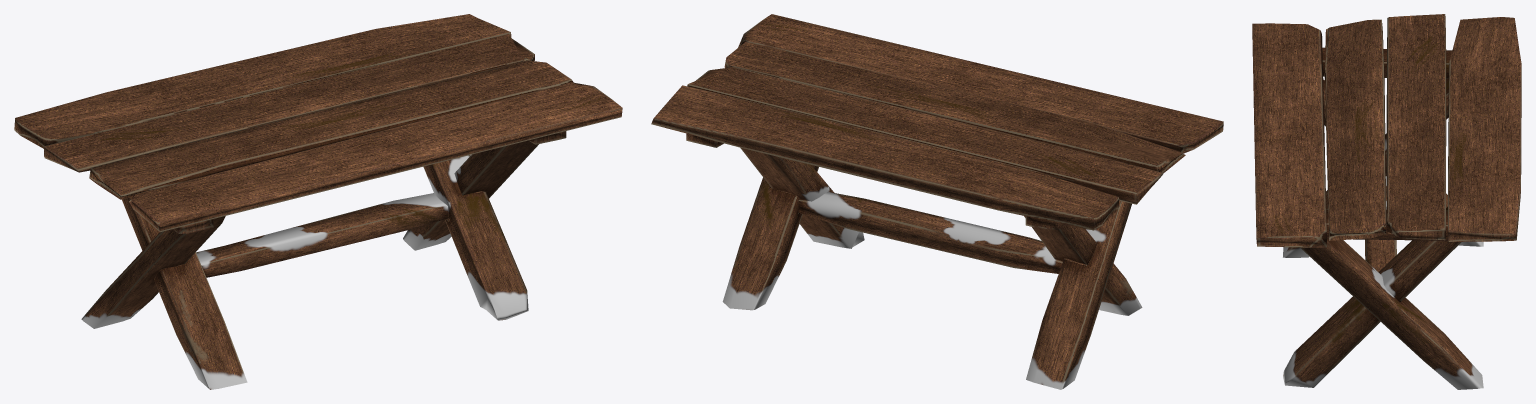
File: KindledSpirits-Table.fbx
3 views of the same model, side by side, from view 1: azimuth 30°, elevation 25°; view 2: azimuth 150°, elevation 25°; view 3: azimuth 270°, elevation 25° (orthographic). The views are drawn at different scales.
Visible parts, largest first — view 1: Table-LOD0; view 2: Table-LOD0; view 3: Table-LOD0.
Part boxes in pixels (x1,y1,x2,y2): Table-LOD0: (14, 14, 622, 389); Table-LOD0: (651, 14, 1223, 389); Table-LOD0: (1252, 14, 1521, 389).
Size of what is drawn, in the model's own units: 333 by 135 by 173.
